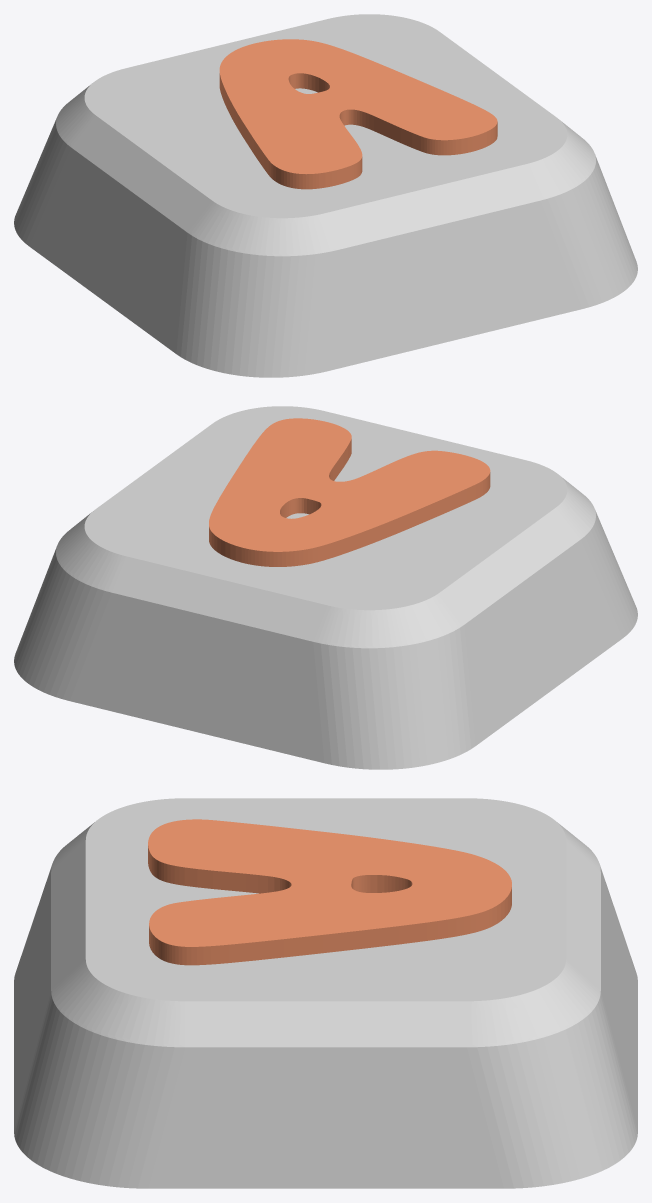
The model's file is cap-A.glb.
3 views of the same model, one above another, from view 1: azimuth 30°, elevation 25°; view 2: azimuth 150°, elevation 25°; view 3: azimuth 270°, elevation 25° (orthographic). The views are drawn at different scales.
Visible parts, largest first — view 1: cap_0, glyph_1; view 2: cap_0, glyph_1; view 3: cap_0, glyph_1.
Boxes of the visible parts, <box> form: cap_0: <box>14,14,637,377</box>; glyph_1: <box>219,39,497,189</box>; cap_0: <box>14,406,637,769</box>; glyph_1: <box>209,418,490,566</box>; cap_0: <box>14,798,637,1188</box>; glyph_1: <box>148,819,511,965</box>.
Bounding box in the file's own units: 18 × 5.59 × 18.
